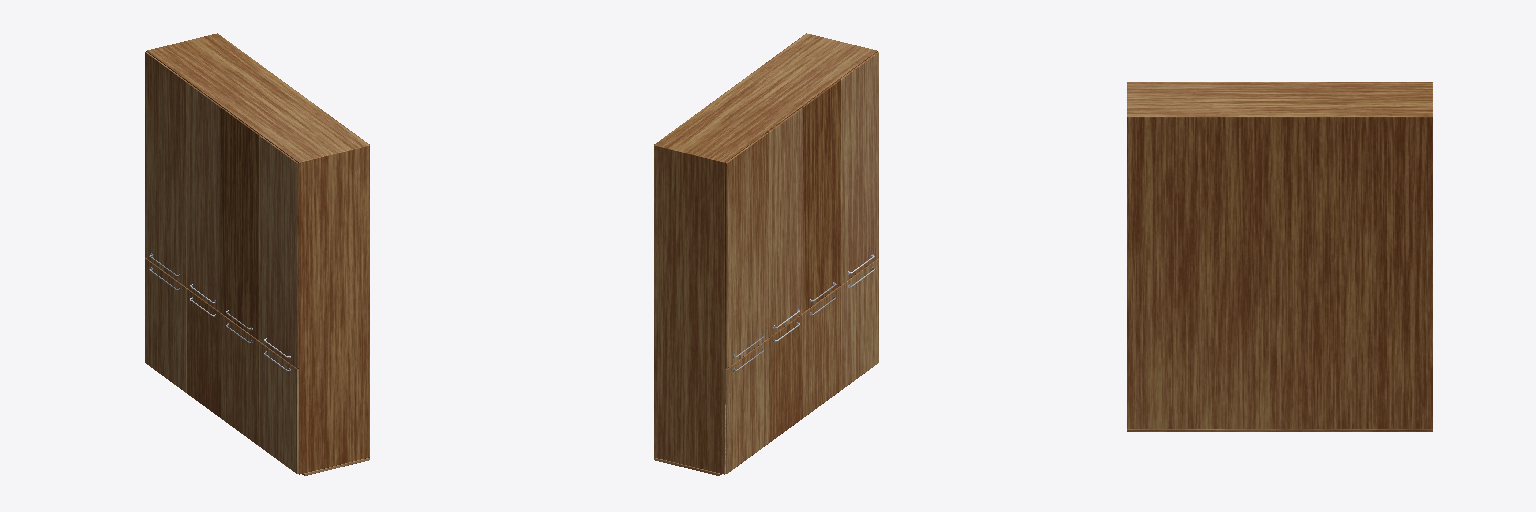
The picture shows the model from 3 angles: view 1: azimuth 30°, elevation 25°; view 2: azimuth 150°, elevation 25°; view 3: azimuth 270°, elevation 25°; orthographic projection.
Visible parts, largest first — view 1: mueble_Mesh; view 2: mueble_Mesh; view 3: mueble_Mesh.
Part boxes in pixels (x1,y1,x2,y2): mueble_Mesh: (145,33,369,475); mueble_Mesh: (654,33,878,475); mueble_Mesh: (1127,82,1432,431).
Bounding box in the file's own units: 0.6926 × 2.73 × 2.4.
2 materials, 2 textured.